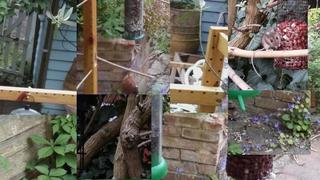mouse: (251, 27, 281, 78)
